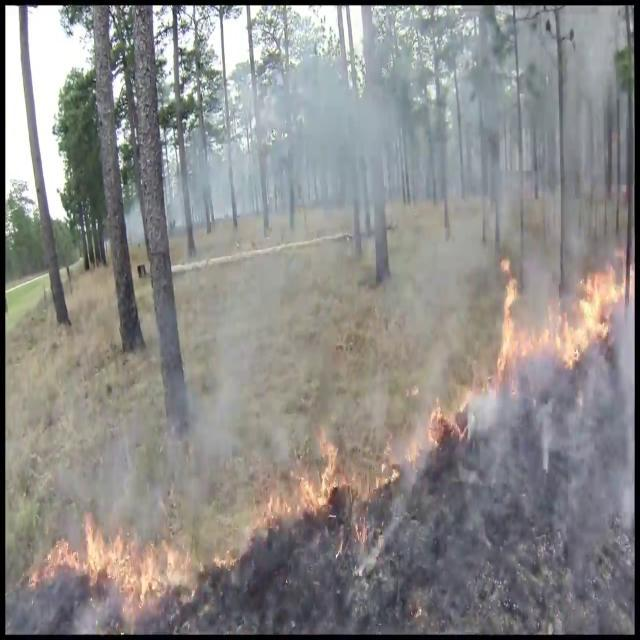Fire: (491, 245, 635, 379), (41, 504, 201, 616), (402, 372, 499, 464), (262, 426, 351, 526)
Smoke: (215, 0, 628, 279)
